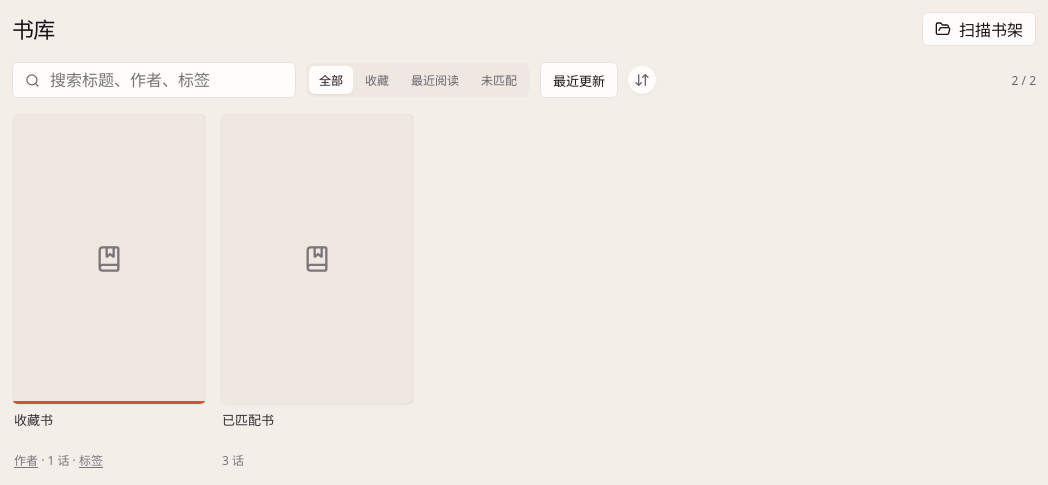
LibraryView toolbar › scans local bookshelf and filters favorites
Click the button "扫描书架": (979, 29) [922,12,1036,46]
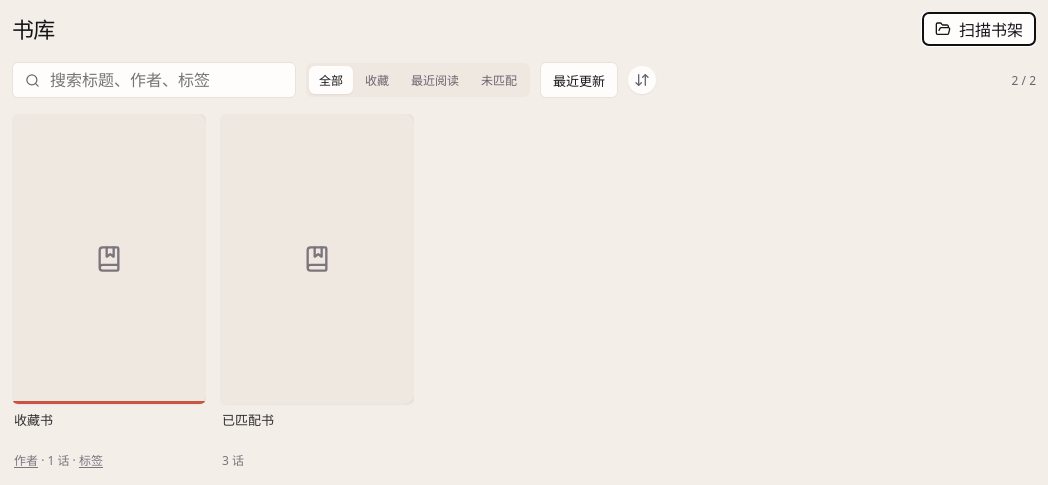
Click the button named "倒序排列": (642, 80) [628,66,656,94]
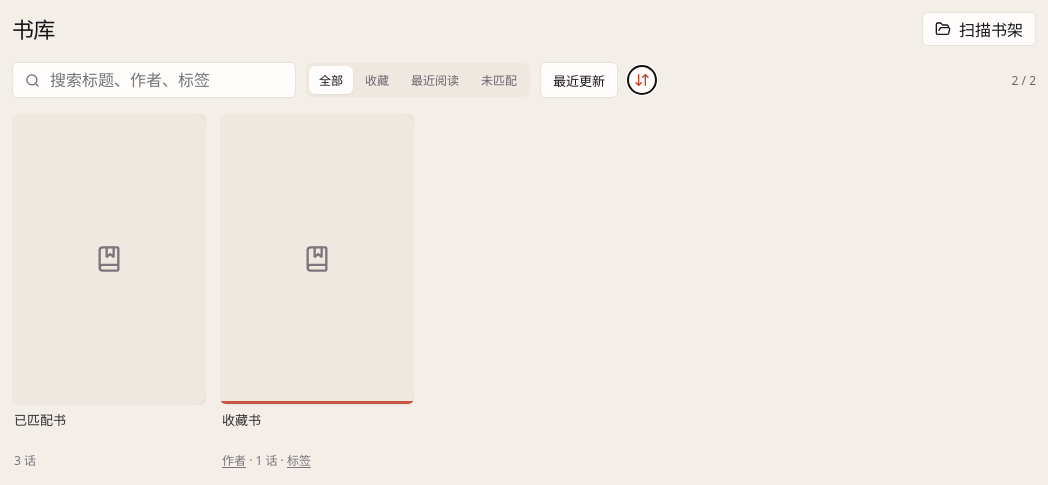
Check: the button named "切换为正序" is shown, box [628,66,656,94]
Click the button "收藏": (377, 80) [355,66,399,94]
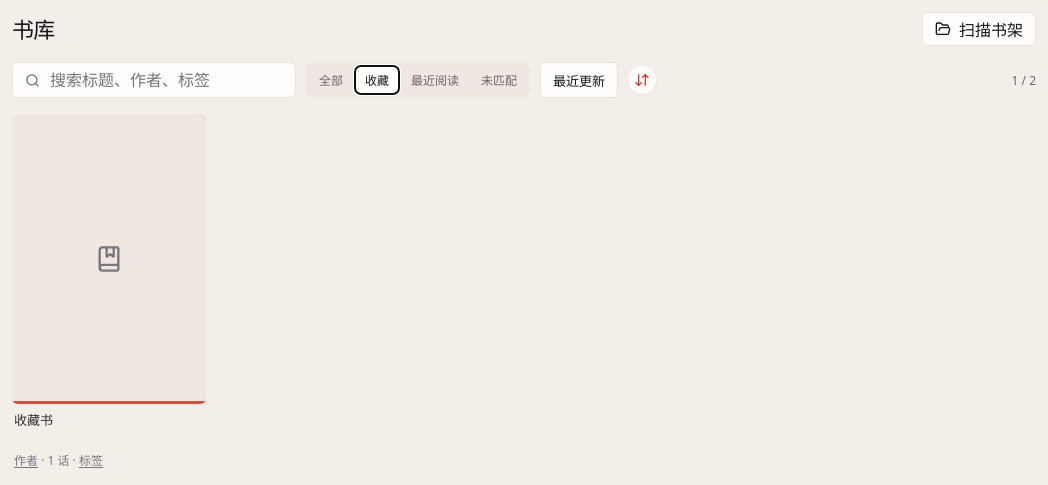
Check: the heading "收藏书" is shown, box [14,411,53,429]
Check: the button "已匹配书" is gone
